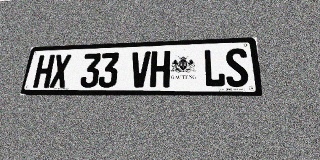3: (79, 53, 102, 88), (98, 52, 119, 88)
H: (149, 51, 170, 87), (33, 55, 55, 88)
L: (203, 49, 226, 87)
S: (225, 48, 249, 87)
V: (129, 51, 151, 88)
X: (49, 54, 72, 88)
